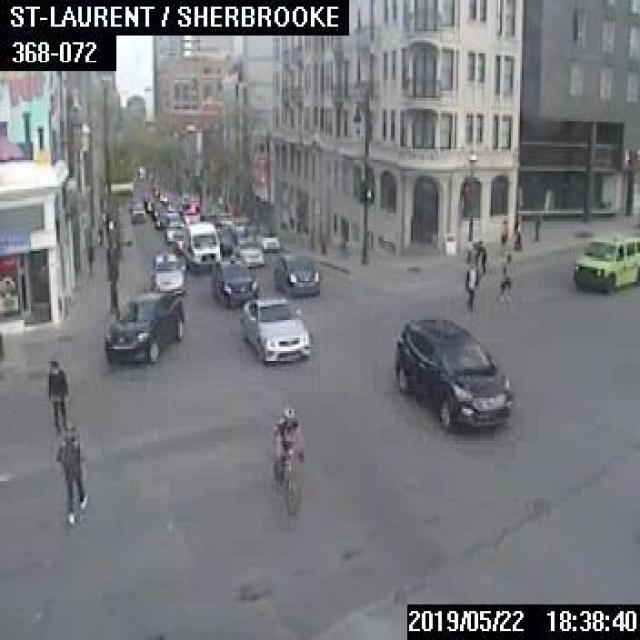cyclist: (271, 402, 304, 507)
pedestrian: (54, 422, 87, 524), (45, 358, 68, 430), (494, 253, 512, 300), (462, 265, 475, 309), (462, 238, 476, 277), (474, 236, 485, 278), (498, 215, 507, 251), (511, 213, 520, 249)
vehicle: (391, 313, 514, 429), (102, 291, 183, 362), (238, 295, 309, 363), (572, 232, 638, 289), (210, 254, 256, 306), (272, 252, 318, 296), (181, 220, 219, 273), (148, 250, 186, 295), (230, 237, 262, 267), (228, 217, 251, 242), (215, 223, 233, 252), (256, 228, 278, 250), (164, 218, 182, 242), (129, 198, 144, 220), (170, 229, 182, 252), (154, 210, 168, 228), (150, 201, 164, 217), (217, 212, 231, 224)
